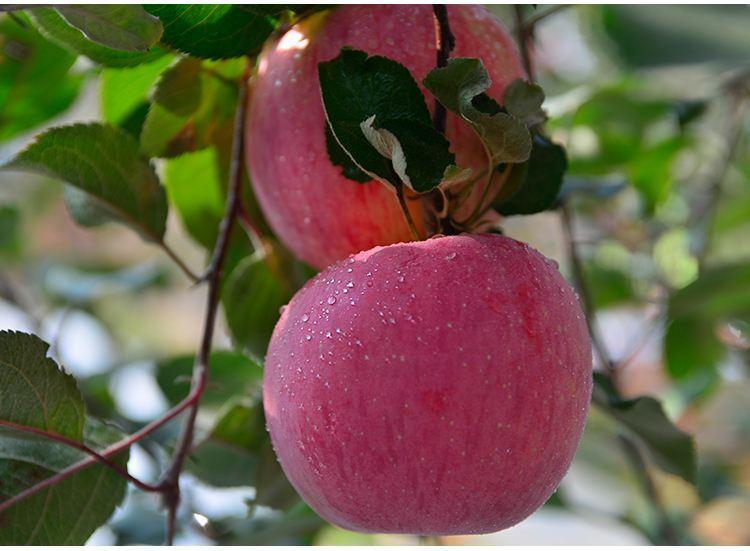apple: (265, 227, 592, 535), (241, 5, 542, 270)
